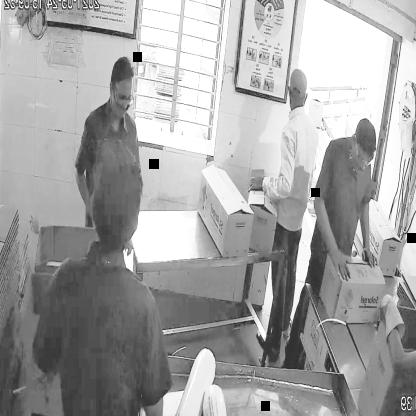goggles: (111, 84, 138, 108), (356, 142, 376, 168)
